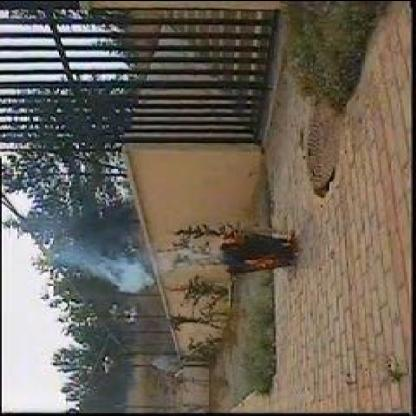-: (58, 250, 158, 292)
foggia-v2-map80-epoch100 - v1 4323: (240, 254, 280, 270)
